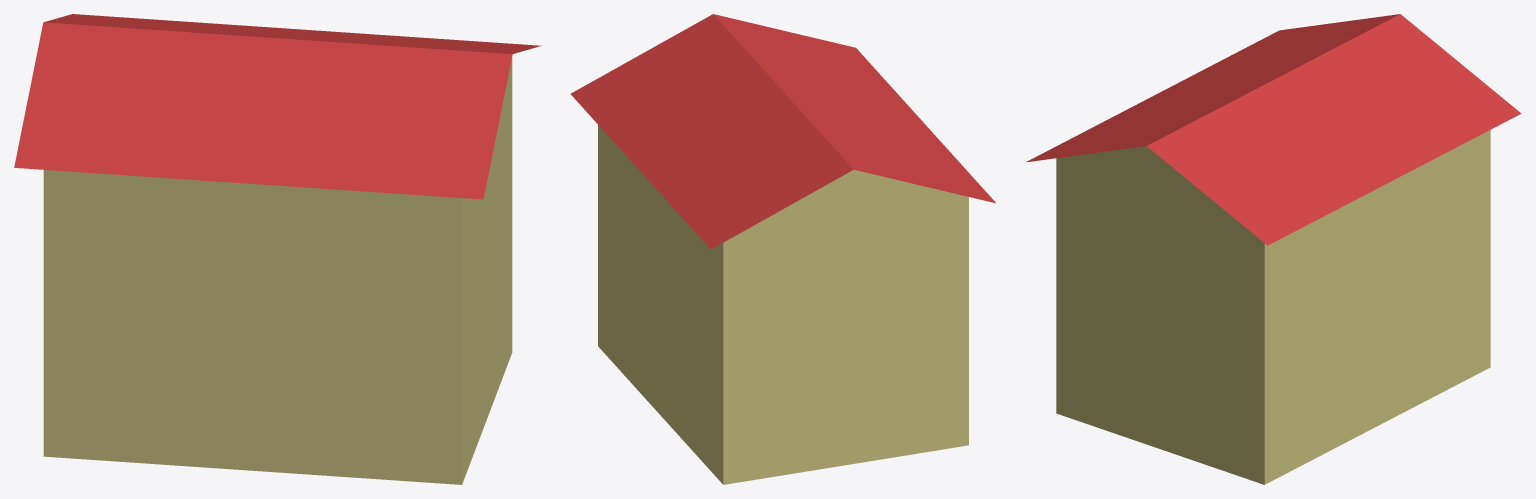
3 views of the same model, side by side, from view 1: azimuth 30°, elevation 25°; view 2: azimuth 150°, elevation 25°; view 3: azimuth 270°, elevation 25° (orthographic). The views are drawn at different scales.
Parts seen in each view (by area): view 1: group_5, group_3, group_4; view 2: group_5, group_3, group_4; view 3: group_5, group_3, group_4.
Part boxes in pixels (left/top/right/bottom): group_5: left=43, top=57, right=512, bottom=484; group_3: left=44, top=17, right=511, bottom=199; group_4: left=14, top=14, right=541, bottom=199; group_5: left=598, top=125, right=968, bottom=484; group_3: left=598, top=14, right=968, bottom=229; group_4: left=570, top=14, right=995, bottom=249; group_5: left=1056, top=130, right=1490, bottom=484; group_3: left=1056, top=14, right=1490, bottom=224; group_4: left=1026, top=14, right=1521, bottom=245.
Size of the model in its own units: 17.43 by 16.98 by 11.72.
